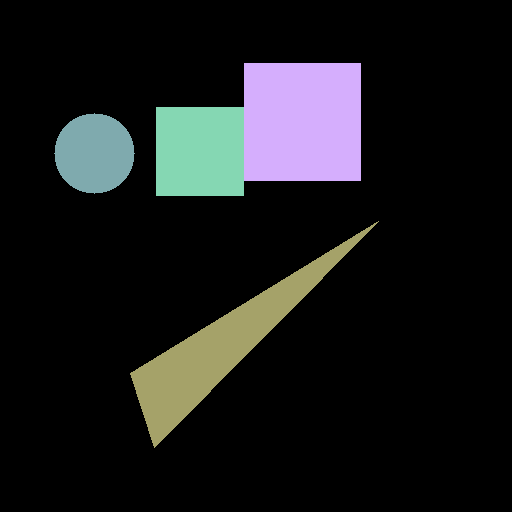circle: (156, 63, 360, 195), (54, 113, 134, 193)
triangle: (130, 221, 378, 447)
